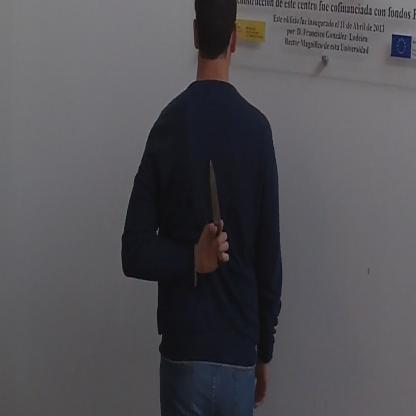knife: (204, 151, 232, 271)
